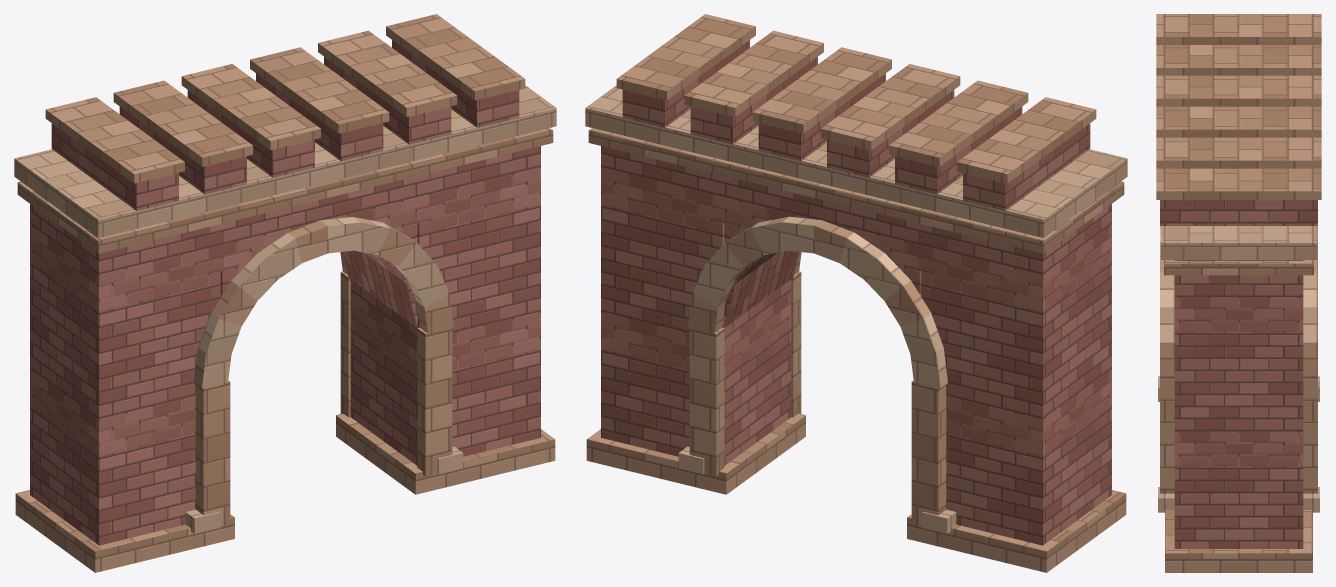
Rendered from Gatehouse_Open_Arch.obj.
3 renders of one model, left to right at view 1: azimuth 30°, elevation 25°; view 2: azimuth 150°, elevation 25°; view 3: azimuth 270°, elevation 25°, orthographic. The views are drawn at different scales.
Parts seen in each view (by area): view 1: Brick_Rose, Stone_Sand, Stone_Light; view 2: Brick_Rose, Stone_Sand, Stone_Light; view 3: Stone_Sand, Brick_Rose, Stone_Light.
Boxes of the visible parts, x1,y1,x2,y2 form: Brick_Rose: (30,40,540,545); Stone_Sand: (15,14,555,572); Stone_Light: (14,85,556,533); Brick_Rose: (601,40,1111,545); Stone_Sand: (586,14,1126,572); Stone_Light: (585,85,1127,533); Stone_Sand: (1156,14,1321,572); Brick_Rose: (1160,200,1317,548); Stone_Light: (1158,226,1319,512).
Size of the model in its own units: 5 by 4.09 by 1.67.
3 materials, 3 textured.
